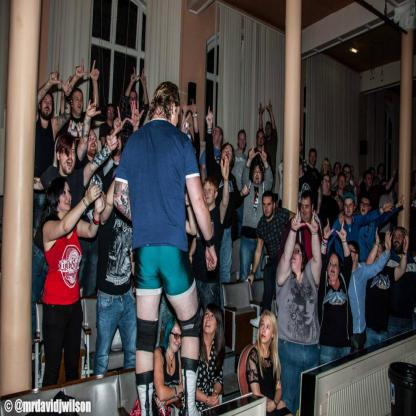face: (61, 141, 76, 174), (60, 182, 73, 212), (261, 316, 273, 343), (170, 98, 181, 127), (172, 325, 184, 351), (204, 308, 216, 333), (87, 130, 99, 154), (291, 244, 303, 268), (203, 181, 215, 204), (328, 255, 339, 280), (73, 92, 84, 114), (42, 95, 53, 116), (111, 131, 122, 152), (394, 230, 405, 251), (302, 198, 312, 220), (264, 196, 273, 218), (374, 243, 384, 262), (254, 166, 263, 185), (223, 146, 233, 163), (346, 199, 355, 217), (361, 198, 370, 216), (346, 245, 356, 261), (212, 127, 221, 144), (324, 176, 331, 192), (240, 134, 246, 150), (108, 108, 115, 120), (131, 93, 137, 107), (345, 168, 351, 181), (367, 174, 373, 187), (259, 133, 265, 145), (340, 177, 346, 189), (333, 177, 339, 188), (311, 151, 316, 164), (267, 125, 272, 136), (325, 161, 330, 171), (336, 166, 340, 175), (350, 167, 354, 176), (381, 166, 385, 175), (300, 142, 303, 152), (359, 176, 362, 183)
